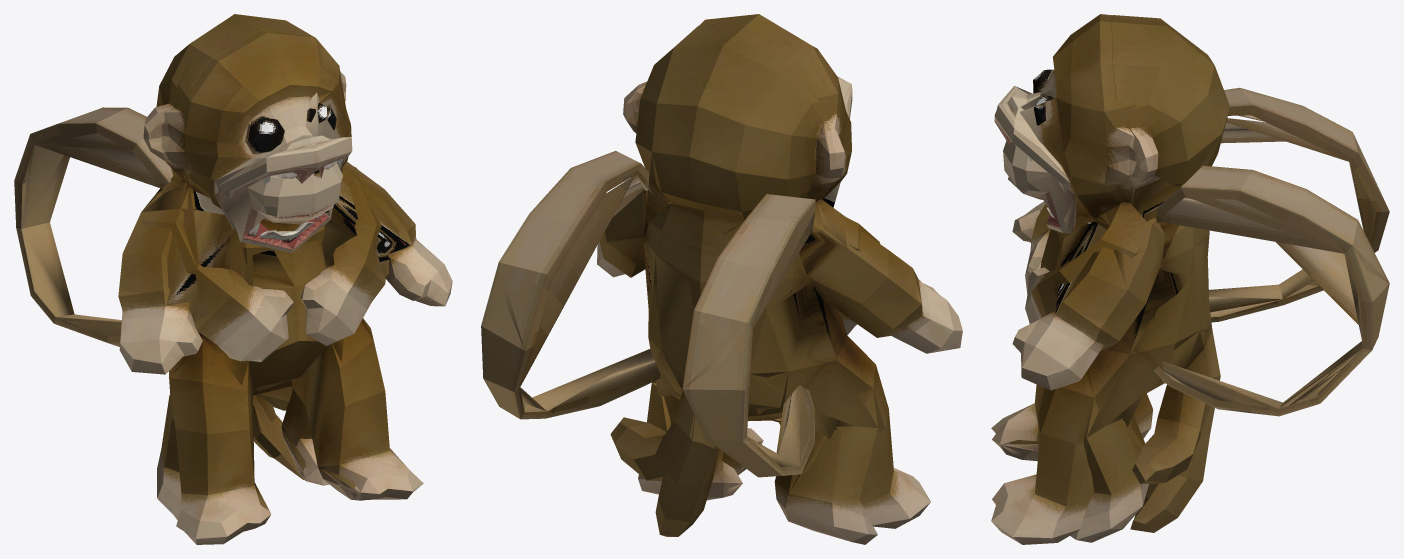
File: item_backpack_monkey.glb
The picture shows the model from 3 angles, left to right: view 1: azimuth 30°, elevation 25°; view 2: azimuth 150°, elevation 25°; view 3: azimuth 270°, elevation 25°; orthographic projection. The views are drawn at different scales.
Visible parts, largest first — view 1: Backpack_Monkey_closed, Backpack_Monkey_open; view 2: Backpack_Monkey_closed, Backpack_Monkey_open; view 3: Backpack_Monkey_closed, Backpack_Monkey_open.
Part boxes in pixels (left/top/right/bottom): Backpack_Monkey_closed: left=15, top=14, right=452, bottom=544; Backpack_Monkey_open: left=14, top=30, right=385, bottom=520; Backpack_Monkey_closed: left=481, top=20, right=962, bottom=528; Backpack_Monkey_open: left=482, top=14, right=880, bottom=544; Backpack_Monkey_closed: left=991, top=15, right=1389, bottom=544; Backpack_Monkey_open: left=994, top=14, right=1389, bottom=542.
Bounding box in the file's own units: 0.5283 × 0.7327 × 0.5484.
1 material, 1 textured.
